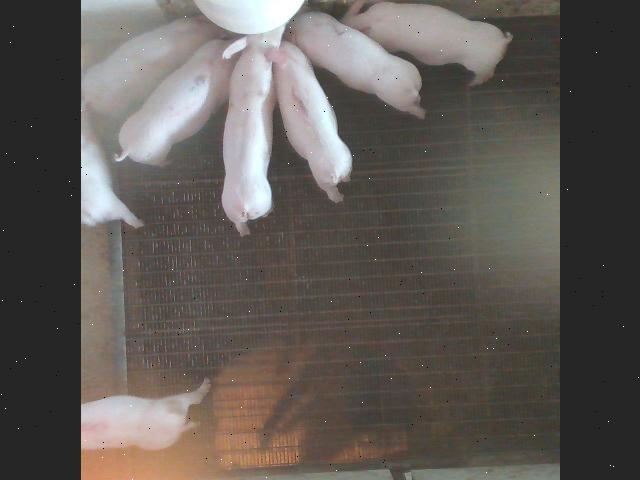pig-1: (272, 41, 351, 202)
